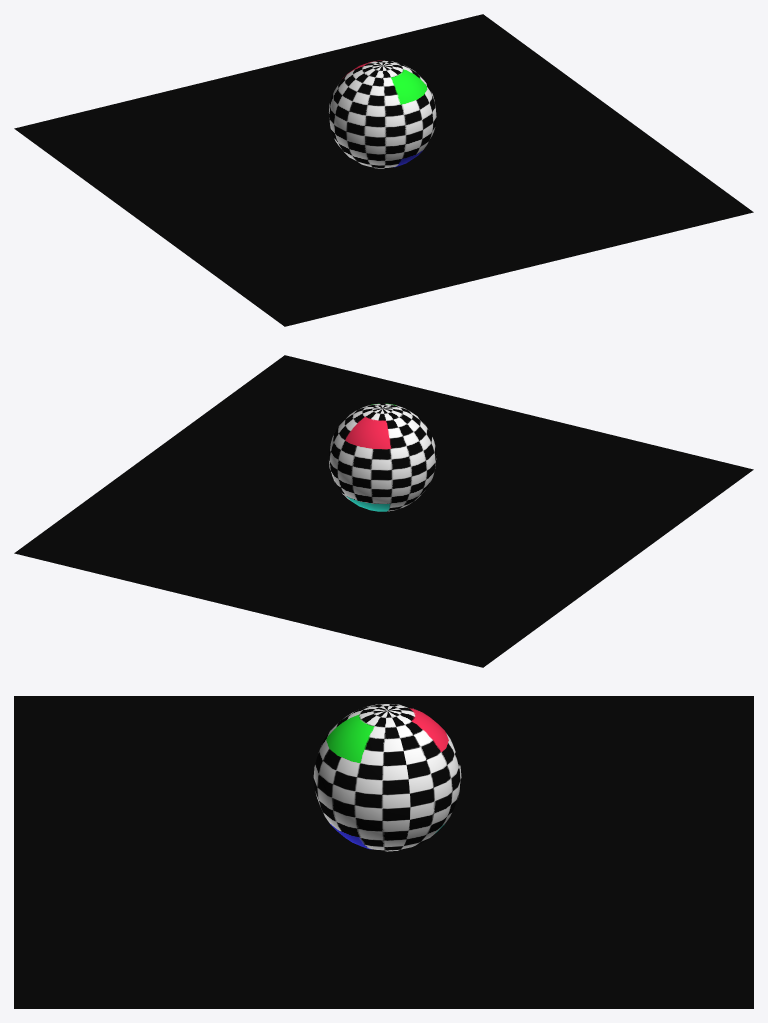
Rendered from ref2.fbx.
The picture shows the model from 3 angles, top to bottom: view 1: azimuth 30°, elevation 25°; view 2: azimuth 150°, elevation 25°; view 3: azimuth 270°, elevation 25°; orthographic projection. The views are drawn at different scales.
Parts seen in each view (by area): view 1: polySurface5; view 2: polySurface5; view 3: polySurface5.
Boxes of the visible parts, x1,y1,x2,y2 form: polySurface5: [14, 14, 753, 326]; polySurface5: [14, 355, 753, 667]; polySurface5: [14, 696, 753, 1008].
Bounding box in the file's own units: 100 × 21.17 × 100.
Materials: 2 (1 with a texture image).
